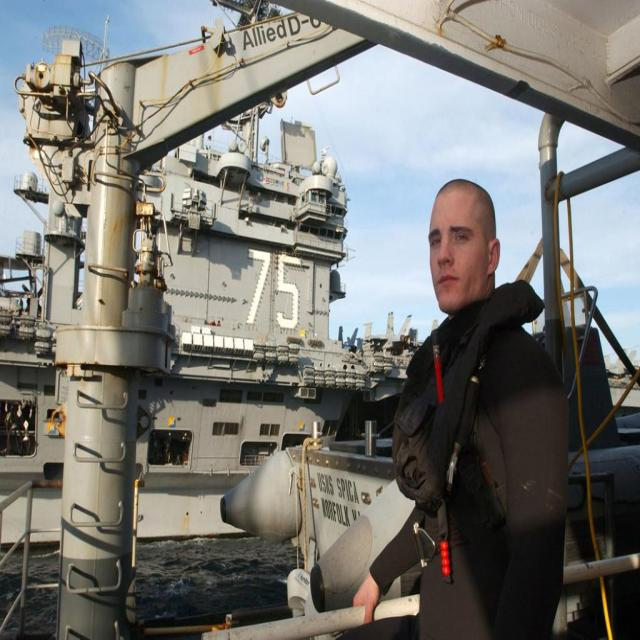nomask: (428, 201, 488, 309)
